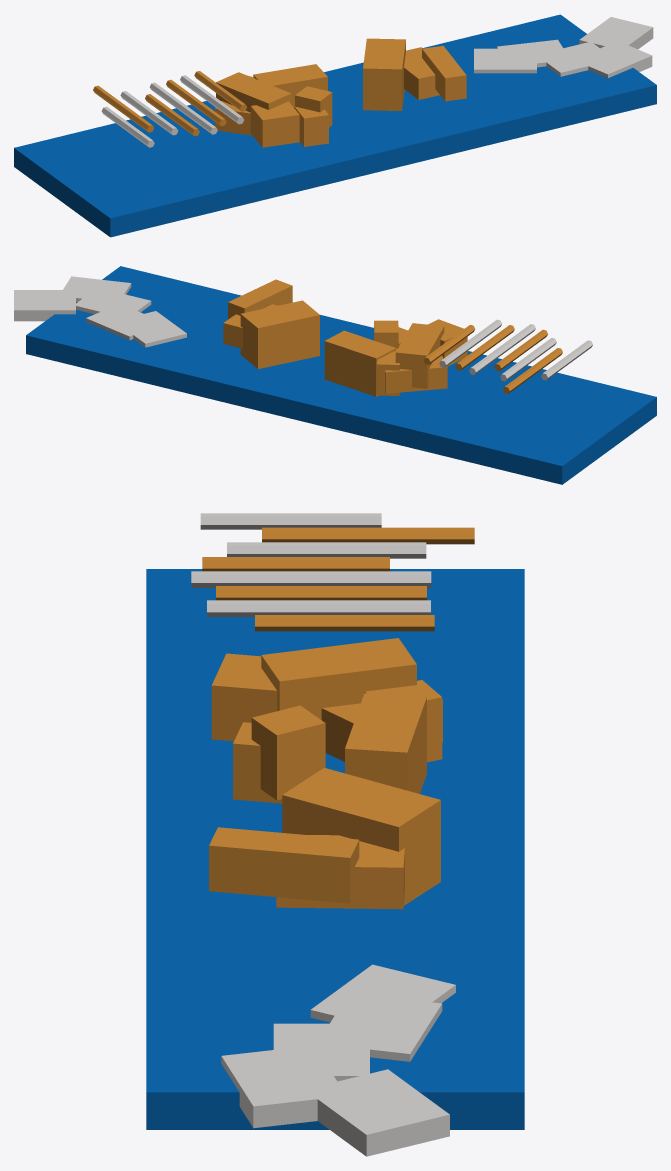
The model's file is protein_veggie_row.glb.
The picture shows the model from 3 angles, top to bottom: view 1: azimuth 30°, elevation 25°; view 2: azimuth 150°, elevation 25°; view 3: azimuth 270°, elevation 25°; orthographic projection. The views are drawn at different scales.
Visible parts, largest first — view 1: world; view 2: world; view 3: world.
Boxes of the visible parts, x1=… form: world: x1=14, y1=14, x2=656, y2=237; world: x1=14, y1=266, x2=656, y2=484; world: x1=146, y1=513, x2=524, y2=1156.
Bounding box in the file's own units: 1.97 × 0.2304 × 0.55.
